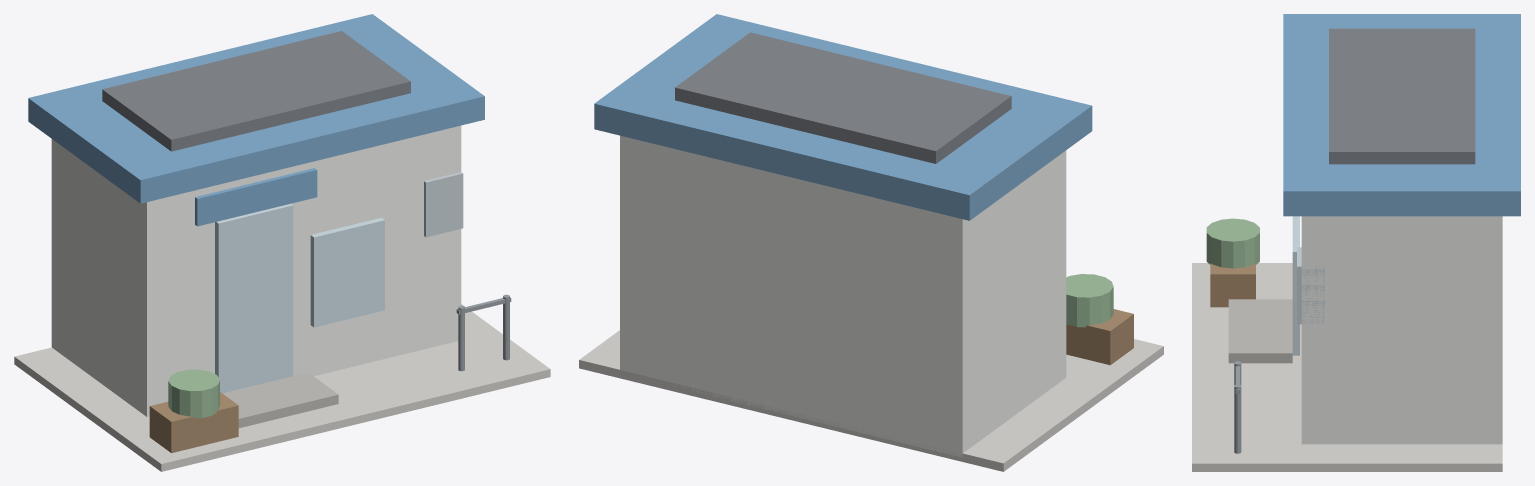
The model's file is webtoon_neighborhood_police_box.glb.
3 views of the same model, side by side, from view 1: azimuth 30°, elevation 25°; view 2: azimuth 150°, elevation 25°; view 3: azimuth 270°, elevation 25° (orthographic). The views are drawn at different scales.
Visible parts, largest first — view 1: station body, roof band, forecourt, roof cap, glass entrance, front window, station sign, entrance step, planter, security camera box, planter shrub; view 2: station body, roof band, roof cap, forecourt, planter, planter shrub; view 3: station body, roof band, forecourt, roof cap, entrance step, planter shrub, planter, security camera box, front window, bike rack post.
Part boxes in pixels (x1,y1,x2,y2): station body: [51, 125, 461, 416]; roof band: [28, 14, 484, 203]; forecourt: [14, 304, 550, 471]; roof cap: [102, 31, 410, 151]; glass entrance: [215, 203, 293, 393]; front window: [310, 217, 384, 327]; station sign: [195, 168, 317, 226]; entrance step: [222, 372, 338, 428]; planter: [149, 392, 238, 453]; security camera box: [424, 172, 463, 237]; planter shrub: [168, 369, 219, 418]; station body: [620, 135, 1066, 457]; roof band: [594, 14, 1092, 220]; roof cap: [675, 32, 1011, 163]; forecourt: [579, 330, 1163, 471]; planter: [1066, 309, 1133, 365]; planter shrub: [1066, 274, 1113, 327]; station body: [1301, 216, 1502, 444]; roof band: [1283, 14, 1520, 216]; forecourt: [1192, 263, 1502, 471]; roof cap: [1329, 28, 1475, 164]; entrance step: [1228, 299, 1292, 363]; planter shrub: [1206, 218, 1259, 268]; planter: [1210, 263, 1255, 307]; security camera box: [1297, 247, 1324, 324]; front window: [1292, 216, 1299, 346]; bike rack post: [1234, 384, 1241, 453].
Bounding box in the file's own units: 5.2 × 3.4 × 3.6.
